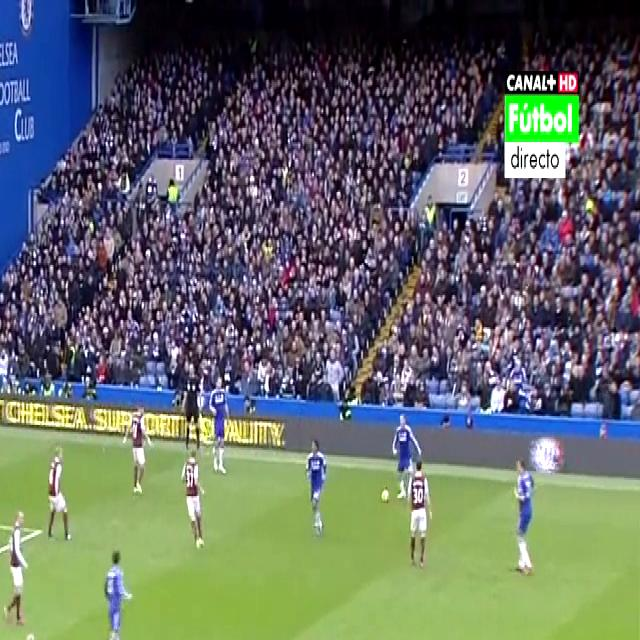referee: (182, 349, 206, 448), (376, 480, 394, 514), (15, 633, 50, 640)
soccer-player: (505, 452, 539, 573), (175, 439, 208, 555), (301, 433, 336, 541), (100, 542, 135, 640), (3, 504, 30, 630), (120, 399, 154, 494), (46, 443, 74, 545), (390, 411, 422, 498), (409, 456, 430, 565)
